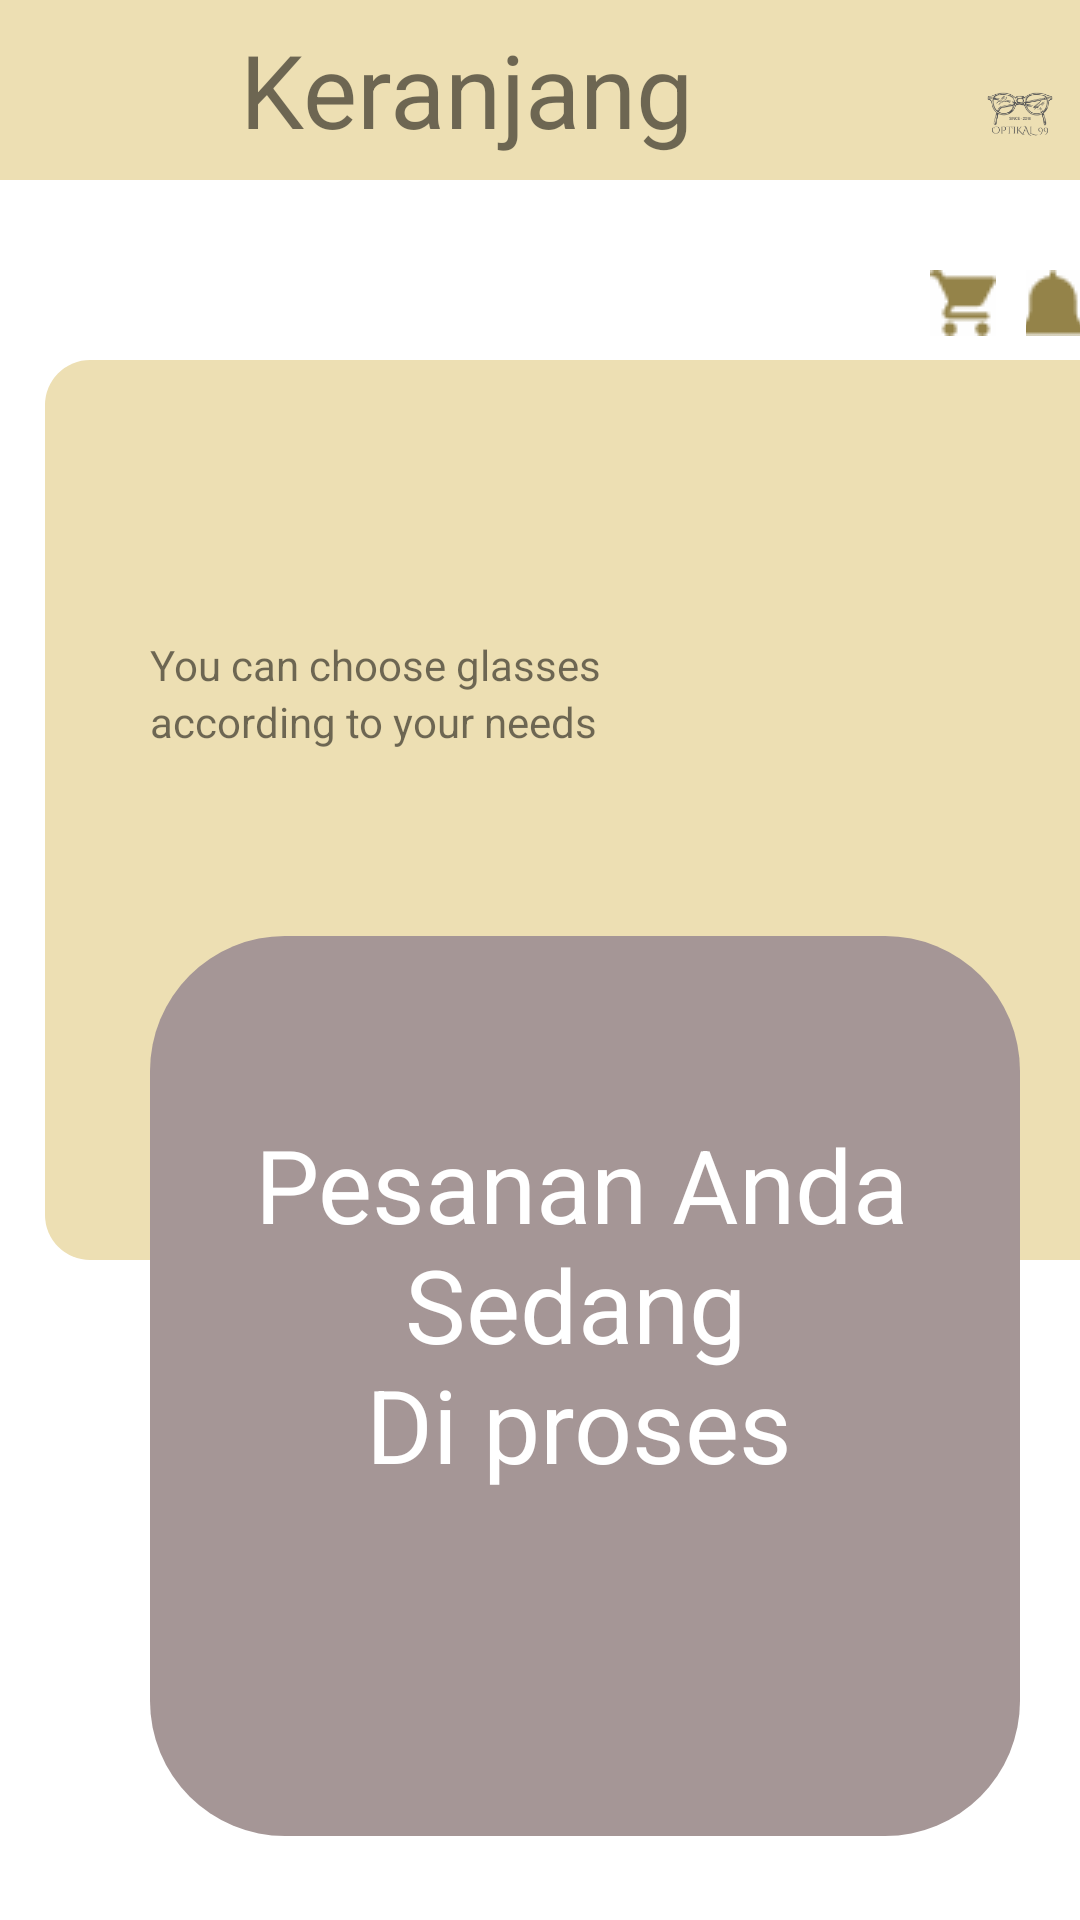

Icon click points for this 1080×1920 phone screenshot, format (x,y):
notification: (1053,303)
shop: (963,303)
